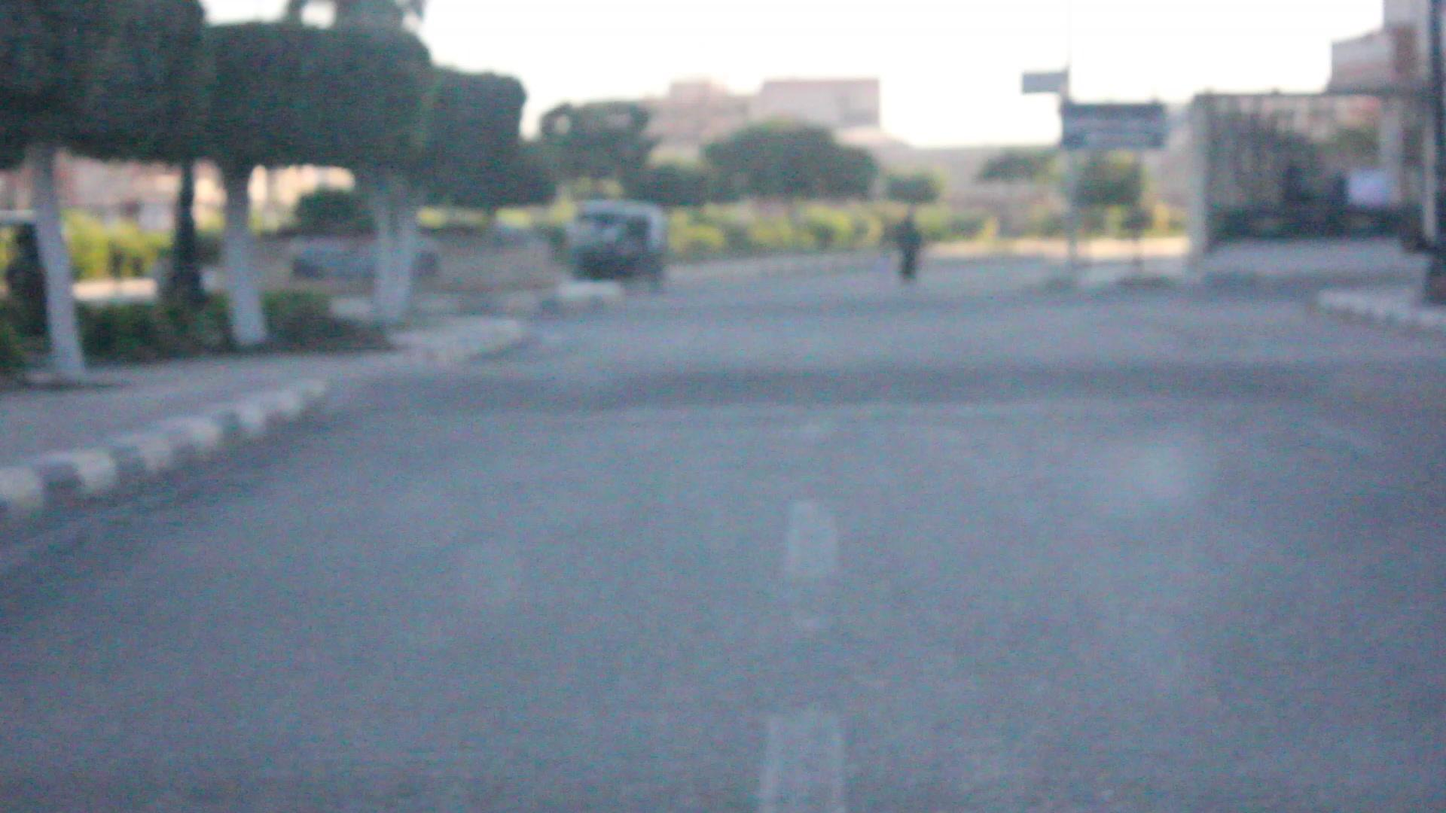Bump: (356, 361, 1446, 433)
